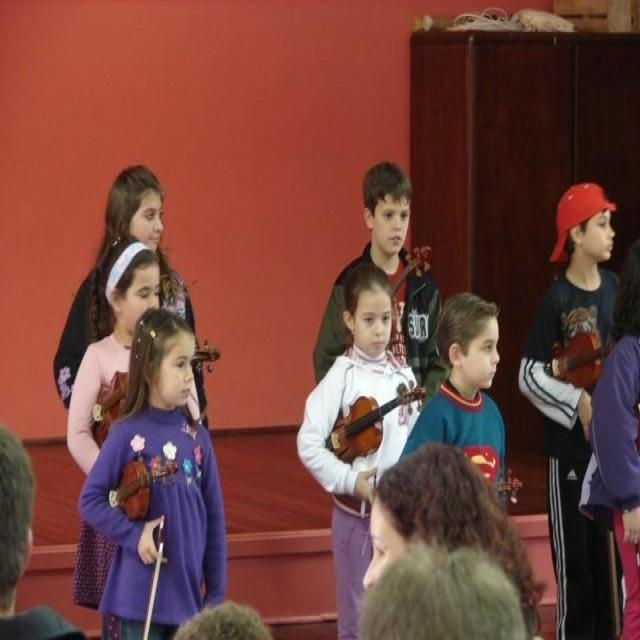violin: (90, 333, 220, 442), (331, 379, 426, 464), (548, 328, 620, 389), (109, 453, 180, 510)
